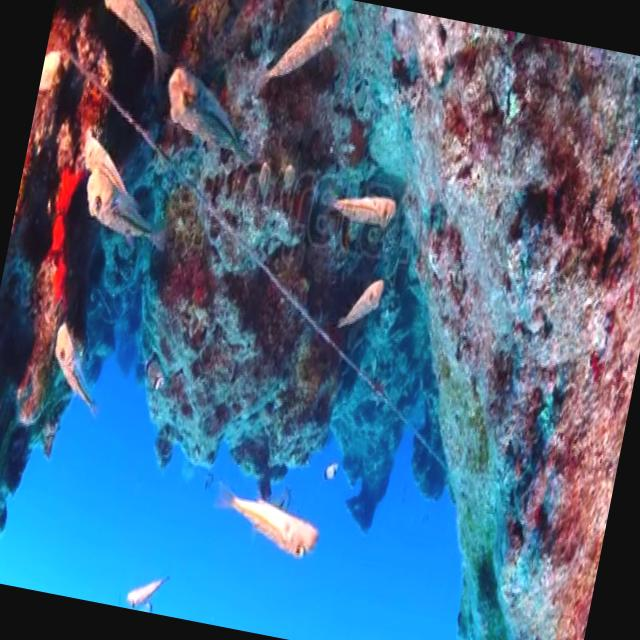Balon Baligi: (156, 62, 266, 176), (212, 480, 328, 578), (75, 164, 176, 253), (86, 0, 184, 89), (38, 313, 114, 418), (263, 0, 345, 97), (334, 272, 389, 344), (330, 187, 401, 233)
